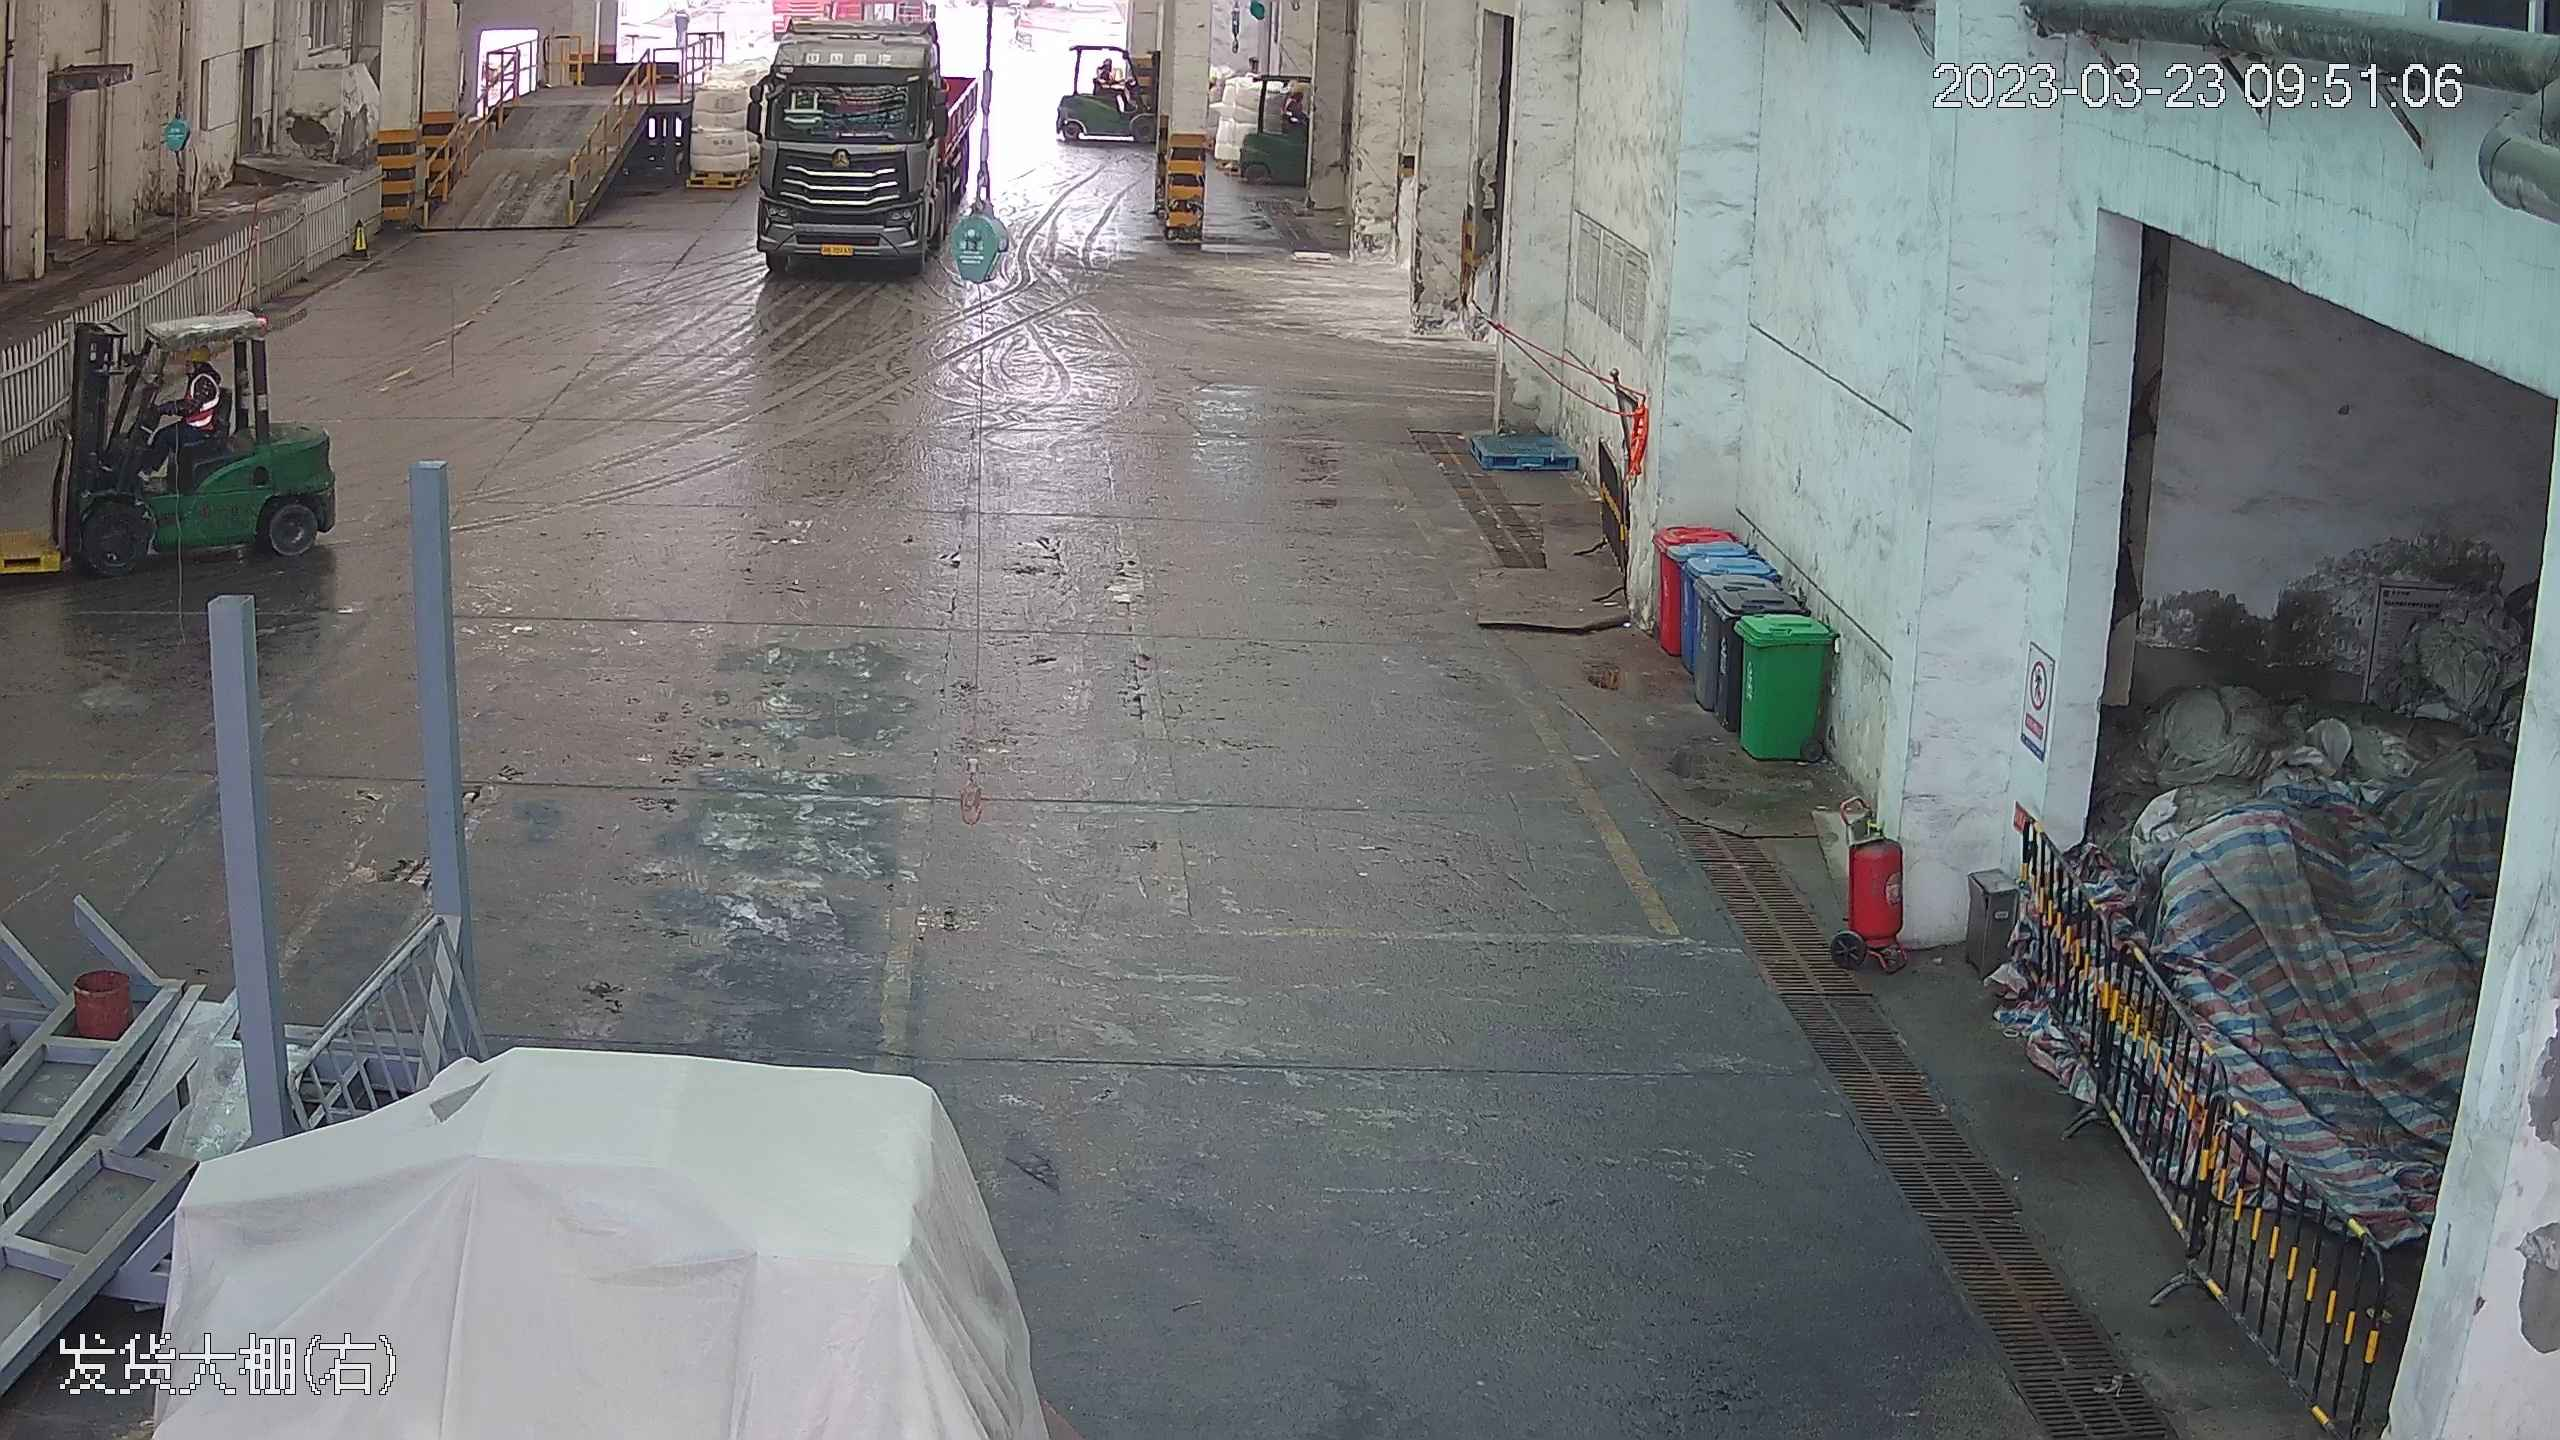head: (176, 341, 221, 394)
helmet: (182, 338, 210, 359)
people: (140, 341, 224, 479)
truck: (734, 16, 986, 279)
